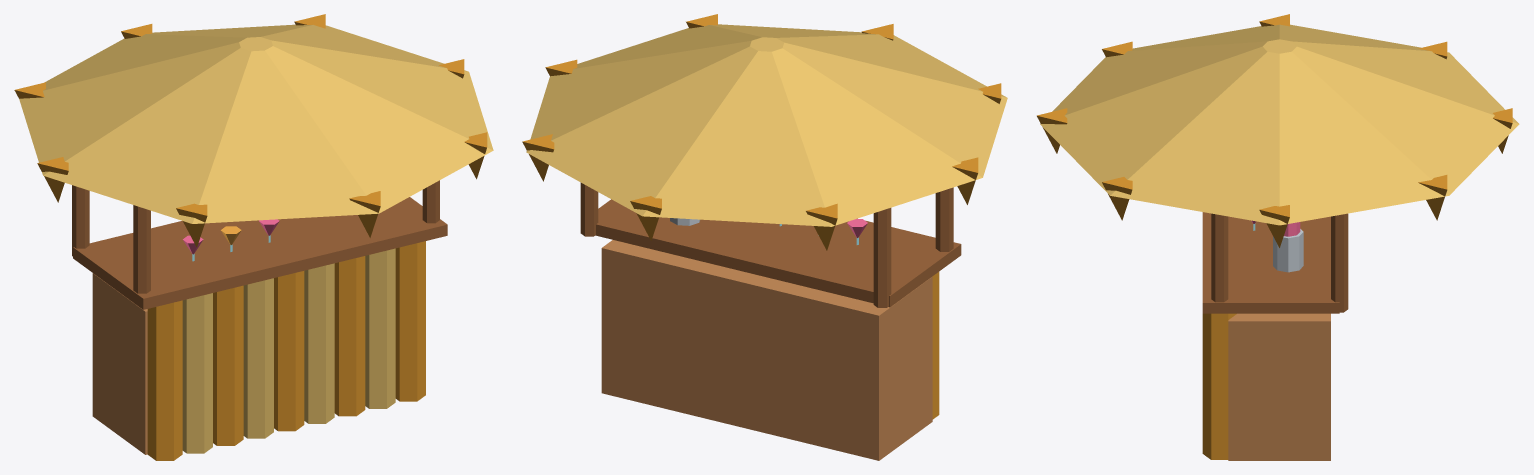
File: station_cocktail_bar.glb
3 views of the same model, side by side, from view 1: azimuth 30°, elevation 25°; view 2: azimuth 150°, elevation 25°; view 3: azimuth 270°, elevation 25° (orthographic). The views are drawn at different scales.
Parts seen in each view (by area): view 1: station_cocktail_bar; view 2: station_cocktail_bar; view 3: station_cocktail_bar.
Part boxes in pixels (<box>): station_cocktail_bar: <box>14,14,493,460</box>; station_cocktail_bar: <box>522,14,1007,460</box>; station_cocktail_bar: <box>1037,14,1519,460</box>.
Bounding box in the file's own units: 2.81 × 2.25 × 2.82.
